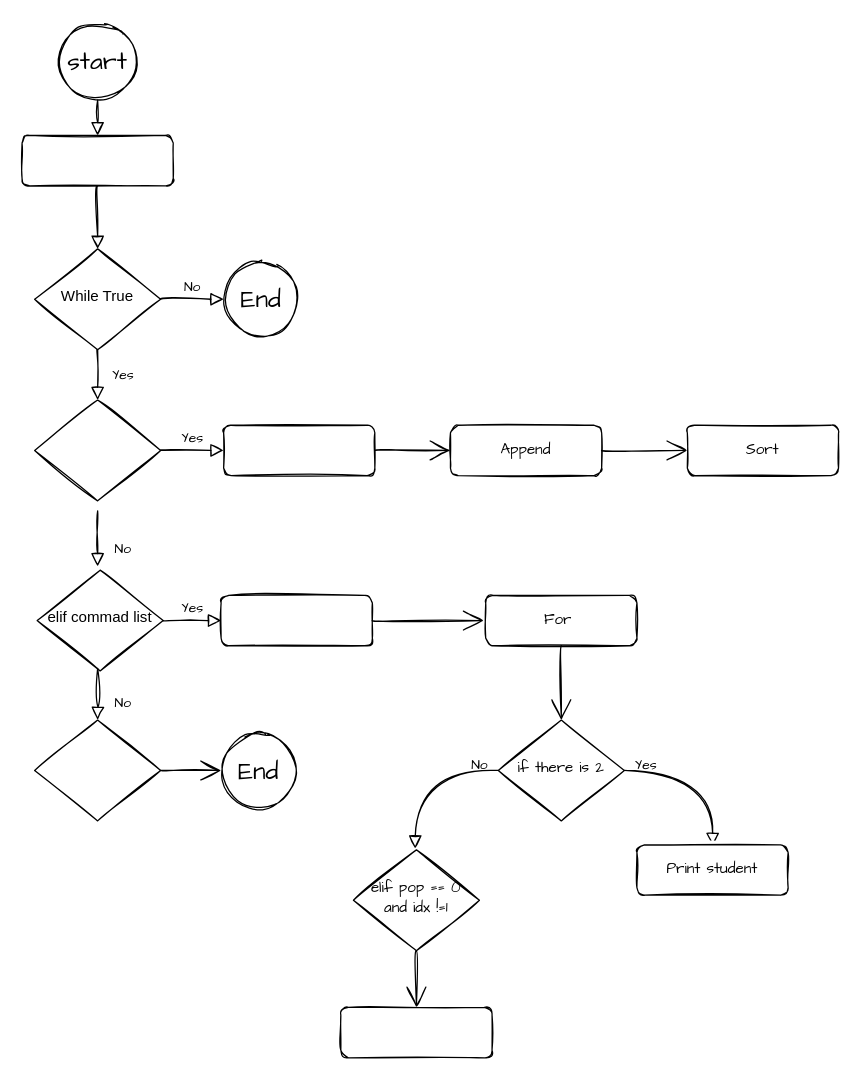
Image size: 861x1080. Some labels were removed from this diagram. Here are the shapes that lost their labels. From the top down, the centre of each, then its label:
(97,160): students = []
(97,450): if coomand add
(298,450): Input
(296,620): Print table
(97,770): elif commad exitt
(416,1032): Print "Not student"
